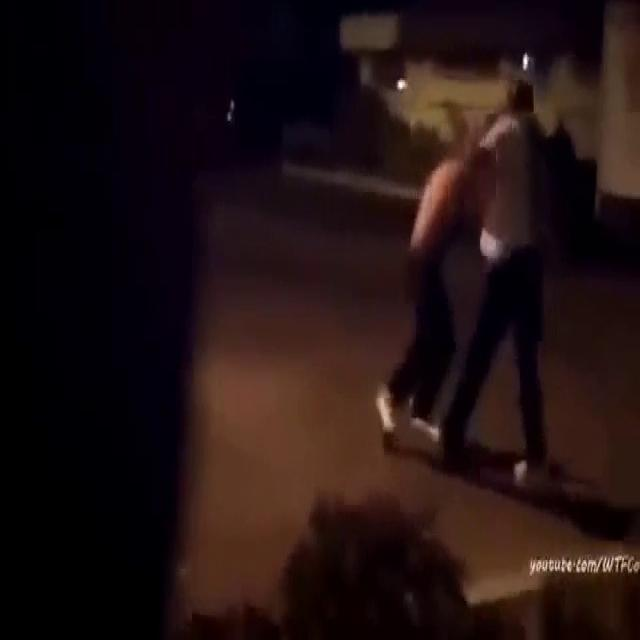Violence: (409, 86, 544, 318)
